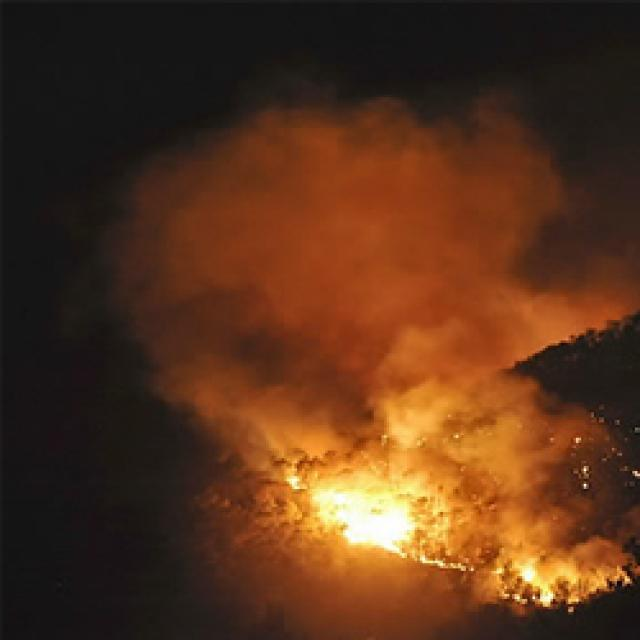Fire: (258, 416, 476, 580), (431, 492, 640, 623)
Smoke: (100, 71, 610, 337), (141, 297, 471, 640), (383, 316, 640, 634), (358, 312, 606, 511)
